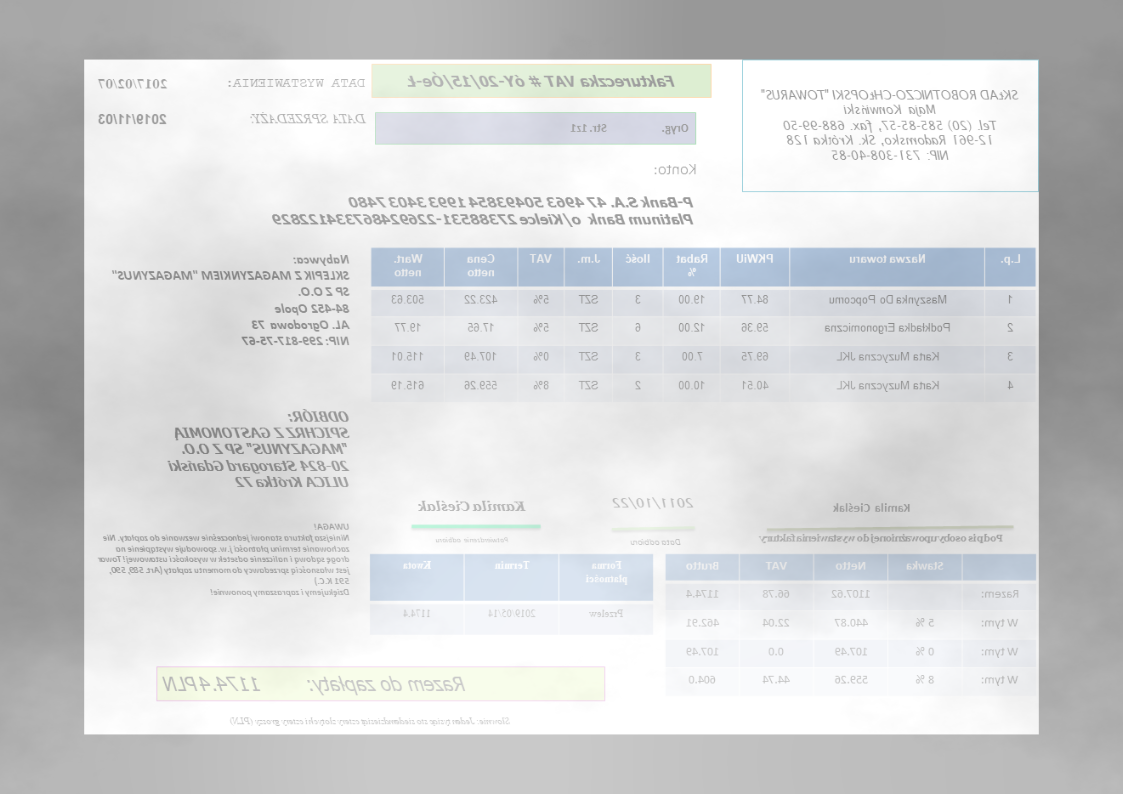Table: (371, 246, 1037, 403), (663, 553, 1037, 696), (369, 552, 655, 637)
TextBox: (110, 251, 352, 349), (94, 521, 352, 599), (758, 86, 1021, 162), (164, 408, 350, 490), (271, 193, 696, 228), (160, 670, 468, 696), (405, 71, 678, 93), (228, 712, 512, 728), (757, 530, 1006, 547), (225, 75, 369, 91), (570, 120, 691, 138), (415, 496, 527, 514), (247, 110, 367, 126), (610, 494, 695, 511), (96, 74, 169, 93), (96, 110, 169, 128), (831, 501, 913, 515), (434, 534, 511, 545), (653, 162, 700, 179), (630, 536, 683, 548)
